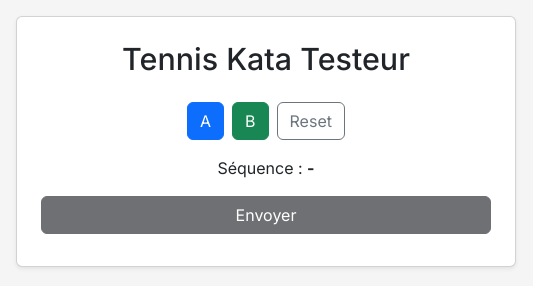
Test: TennisGameComponent › ajoute les lettres A et B à la séquence
Click the button "A" at (206, 120), box [187, 102, 224, 140]
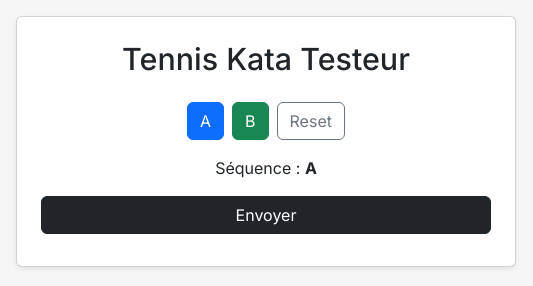
Click the button "B" at (250, 120), box [232, 102, 269, 140]
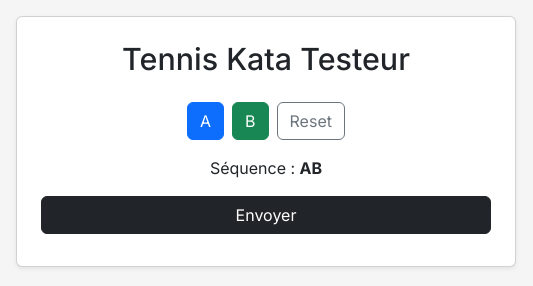
Check: the text "Séquence :" is shown, box [210, 158, 300, 178]
Check: the text "AB" is shown, box [300, 158, 322, 178]
